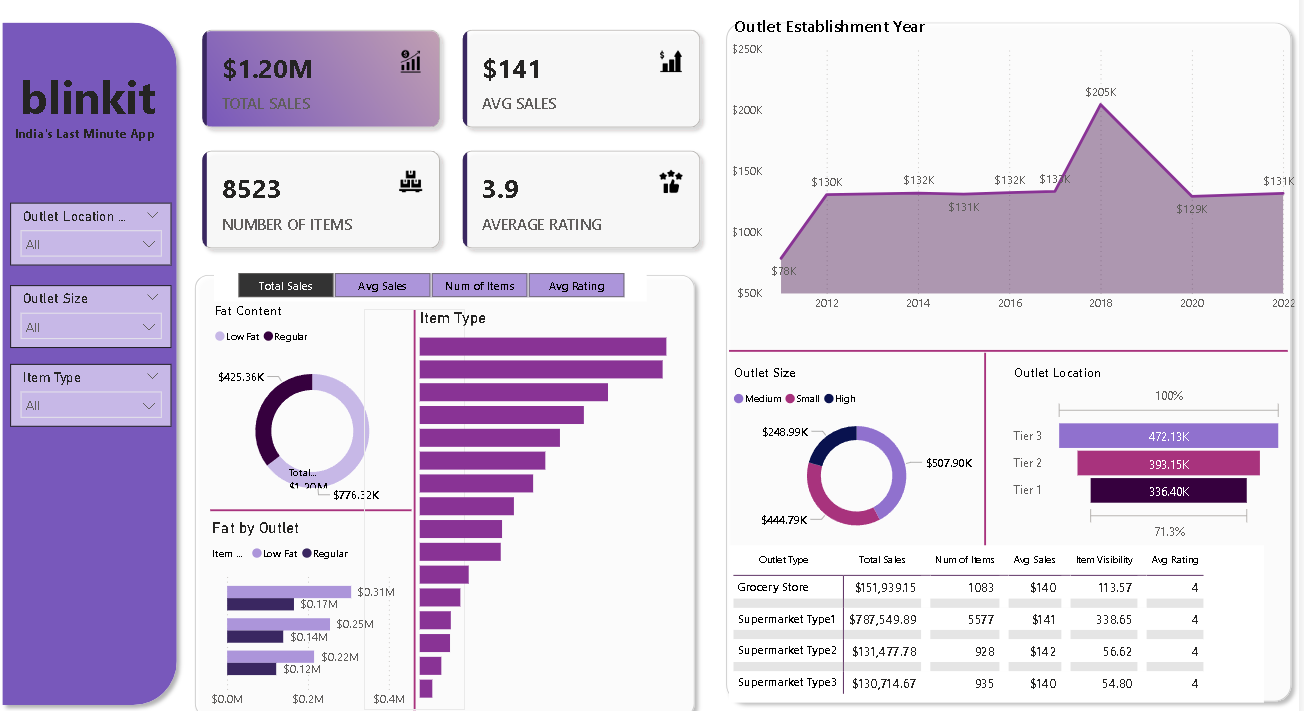

What the dashboard file says about the page in this screenshot:
{"tool":"powerbi","page":{"name":"Blinkit Dashboard","canvas":[1400,800],"ordinal":0},"visuals":[{"type":"shape","box":[0,37.5,205,750],"z":0},{"type":"textbox","box":[12.7,88.6,177.1,80.1],"z":1000},{"type":"textbox","box":[16.9,151.8,172.9,38],"z":2000},{"type":"cardVisual","fields":{"Data":["BlinkIT Grocery Data.Total Sales","BlinkIT Grocery Data.Avg Sales","BlinkIT Grocery Data.Num of Items","BlinkIT Grocery Data.Avg Rating"]},"box":[206.6,38,569.3,269.9],"z":3000},{"type":"shape","box":[207,308,554,492],"z":4000},{"type":"donutChart","title":"Fat Content","fields":{"Y":["BlinkIT Grocery Data.Total Sales"],"Category":["BlinkIT Grocery Data.Item Fat Content"]},"box":[231.9,345.8,219.3,231.9],"z":5000},{"type":"slicer","fields":{"Values":["mETRICS.mETRICS"]},"box":[236.1,307.8,463.9,38],"z":6000},{"type":"cardVisual","fields":{"Data":["BlinkIT Grocery Data.Total Sales"]},"box":[299.4,506,80.1,46.4],"z":7000},{"type":"clusteredBarChart","title":"Fat by Outlet","fields":{"Y":["BlinkIT Grocery Data.Total Sales"],"Category":["BlinkIT Grocery Data.Outlet Location Type"],"Series":["BlinkIT Grocery Data.Item Fat Content"]},"box":[229.2,577.8,219.8,222.5],"z":8000},{"type":"shape","box":[231.9,550.9,215.8,37.5],"z":9000},{"type":"shape","box":[396.8,353.9,108.6,430.3],"z":10000},{"type":"clusteredBarChart","title":"Item Type","fields":{"Y":["BlinkIT Grocery Data.Total Sales"],"Category":["BlinkIT Grocery Data.Item Type"]},"box":[451.7,352.5,307,423.6],"z":11000},{"type":"shape","box":[775.9,38,624.1,746.4],"z":12000},{"type":"lineChart","title":"Outlet Establishment Year","fields":{"Y":["BlinkIT Grocery Data.Total Sales"],"Category":["BlinkIT Grocery Data.Outlet Establishment Year"]},"box":[788.6,38,611.4,328.9],"z":13000},{"type":"shape","box":[788.2,367.3,599.2,63],"z":14000},{"type":"donutChart","title":"Outlet Size","fields":{"Y":["BlinkIT Grocery Data.Total Sales"],"Category":["BlinkIT Grocery Data.Outlet Size"]},"box":[788.6,413.3,274.1,194],"z":15000},{"type":"shape","box":[1007.8,400.6,109.6,236.1],"z":16000},{"type":"funnel","title":" Outlet Location ","fields":{"Y":["Sum(BlinkIT Grocery Data.Sales)"],"Category":["BlinkIT Grocery Data.Outlet Location Type"]},"box":[1088.5,412.9,298.9,194.4],"z":17000},{"type":"pivotTable","fields":{"Rows":["BlinkIT Grocery Data.Outlet Type"],"Values":["BlinkIT Grocery Data.Total Sales","BlinkIT Grocery Data.Num of Items","BlinkIT Grocery Data.Avg Sales","Sum(BlinkIT Grocery Data.Item Visibility)","BlinkIT Grocery Data.Avg Rating"]},"box":[788.6,607.2,573.5,168.7],"z":18000},{"type":"slicer","fields":{"Values":["BlinkIT Grocery Data.Outlet Location Type"]},"box":[16.9,240.4,172.9,67.5],"z":19000},{"type":"slicer","fields":{"Values":["BlinkIT Grocery Data.Outlet Size"]},"box":[16.9,328.9,172.9,67.5],"z":20000},{"type":"slicer","fields":{"Values":["BlinkIT Grocery Data.Item Type"]},"box":[16.9,413.3,172.9,67.5],"z":21000}]}

Visuals, with their boxes on the page's 1400x800 design canvas (x1, y1, x2, y2). These are canvas units, not pixel positions in the 1304x711 screenshot, which may show the page scaled, cropped or inside an application window:
shape: x1=0, y1=38, x2=205, y2=788
textbox: x1=13, y1=89, x2=190, y2=169
textbox: x1=17, y1=152, x2=190, y2=190
cardVisual - BlinkIT Grocery Data.Total Sales x BlinkIT Grocery Data.Avg Sales: x1=207, y1=38, x2=776, y2=308
shape: x1=207, y1=308, x2=761, y2=800
"Fat Content" donutChart: x1=232, y1=346, x2=451, y2=578
slicer - mETRICS.mETRICS: x1=236, y1=308, x2=700, y2=346
cardVisual - BlinkIT Grocery Data.Total Sales: x1=299, y1=506, x2=380, y2=552
"Fat by Outlet" clusteredBarChart: x1=229, y1=578, x2=449, y2=800
shape: x1=232, y1=551, x2=448, y2=588
shape: x1=397, y1=354, x2=505, y2=784
"Item Type" clusteredBarChart: x1=452, y1=352, x2=759, y2=776
shape: x1=776, y1=38, x2=1400, y2=784
"Outlet Establishment Year" lineChart: x1=789, y1=38, x2=1400, y2=367
shape: x1=788, y1=367, x2=1387, y2=430
"Outlet Size" donutChart: x1=789, y1=413, x2=1063, y2=607
shape: x1=1008, y1=401, x2=1117, y2=637
" Outlet Location " funnel: x1=1088, y1=413, x2=1387, y2=607
pivotTable - BlinkIT Grocery Data.Outlet Type x BlinkIT Grocery Data.Total Sales: x1=789, y1=607, x2=1362, y2=776
slicer - BlinkIT Grocery Data.Outlet Location Type: x1=17, y1=240, x2=190, y2=308
slicer - BlinkIT Grocery Data.Outlet Size: x1=17, y1=329, x2=190, y2=396
slicer - BlinkIT Grocery Data.Item Type: x1=17, y1=413, x2=190, y2=481
